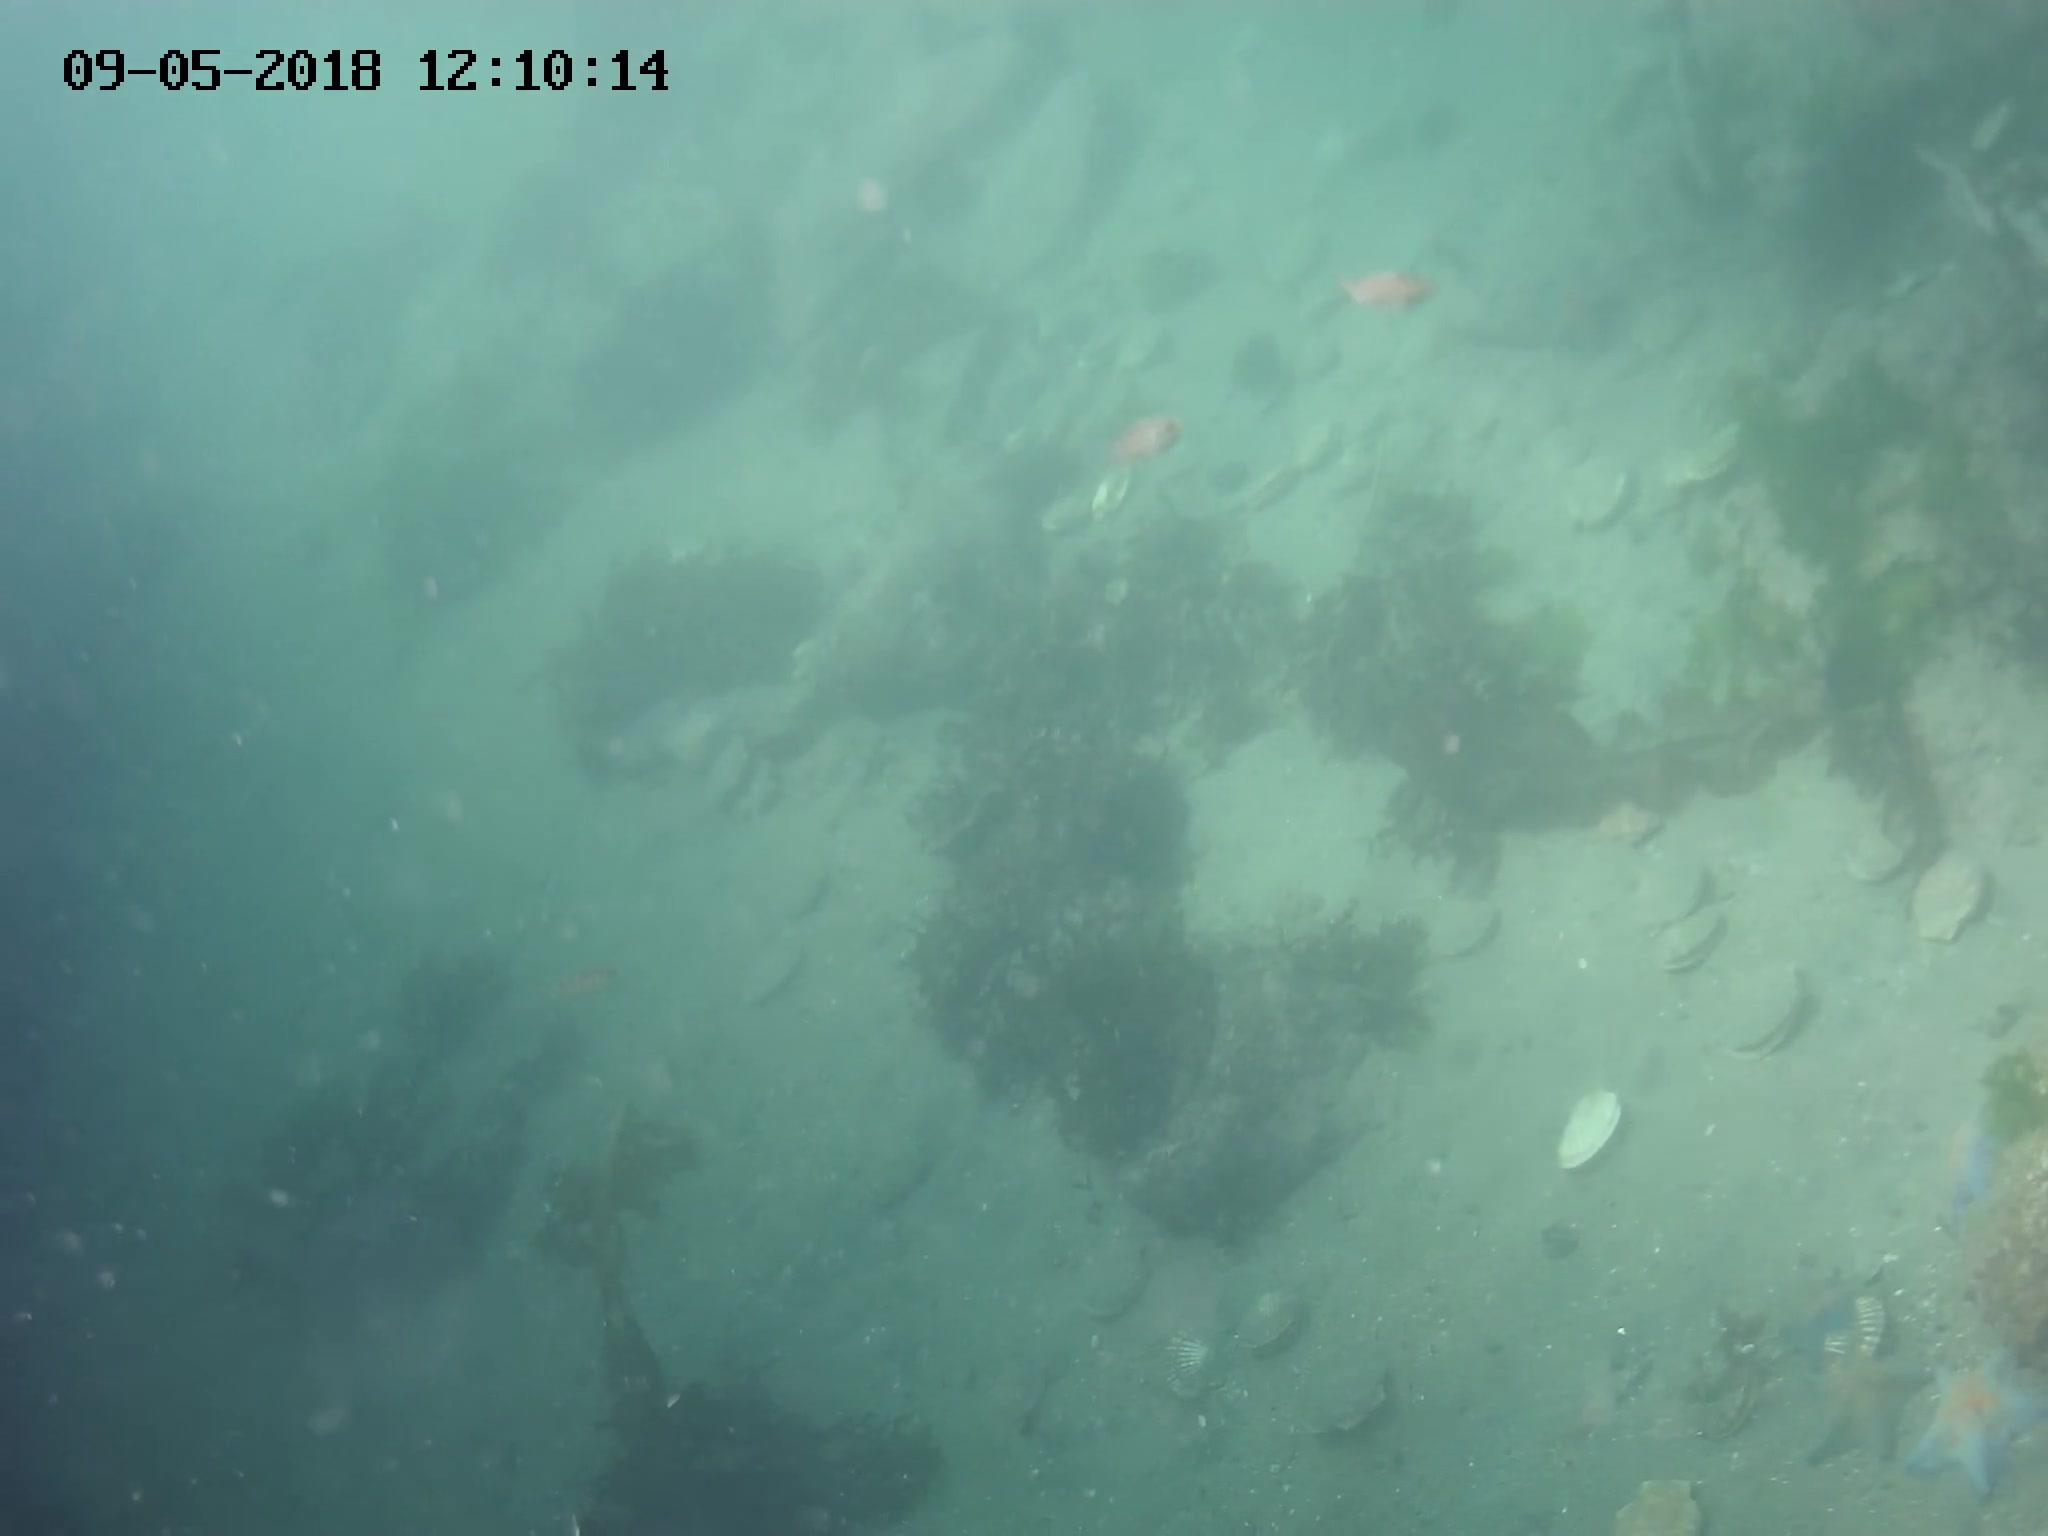scallop: (1721, 963, 1811, 1068), (1293, 1362, 1400, 1438), (1546, 1083, 1629, 1179), (1916, 849, 1992, 947), (1682, 1352, 1763, 1444), (1069, 1242, 1155, 1321), (1606, 1475, 1716, 1536), (1155, 1323, 1226, 1409), (1561, 468, 1643, 534), (1653, 913, 1732, 979), (737, 945, 814, 1010), (1634, 866, 1714, 928), (1243, 1284, 1309, 1359), (1629, 294, 1706, 357), (1427, 897, 1501, 960), (1825, 1284, 1888, 1359), (1682, 423, 1756, 486), (1843, 833, 1911, 886), (1595, 805, 1671, 852), (760, 871, 827, 923), (1263, 239, 1332, 286), (1037, 495, 1100, 537), (1089, 466, 1134, 524), (1292, 337, 1343, 387), (1329, 402, 1392, 442), (1121, 329, 1171, 373), (1329, 452, 1379, 495), (1292, 424, 1335, 473)
starfish: (1900, 1338, 2048, 1499), (1795, 1338, 1943, 1478), (1938, 1100, 2011, 1213)
